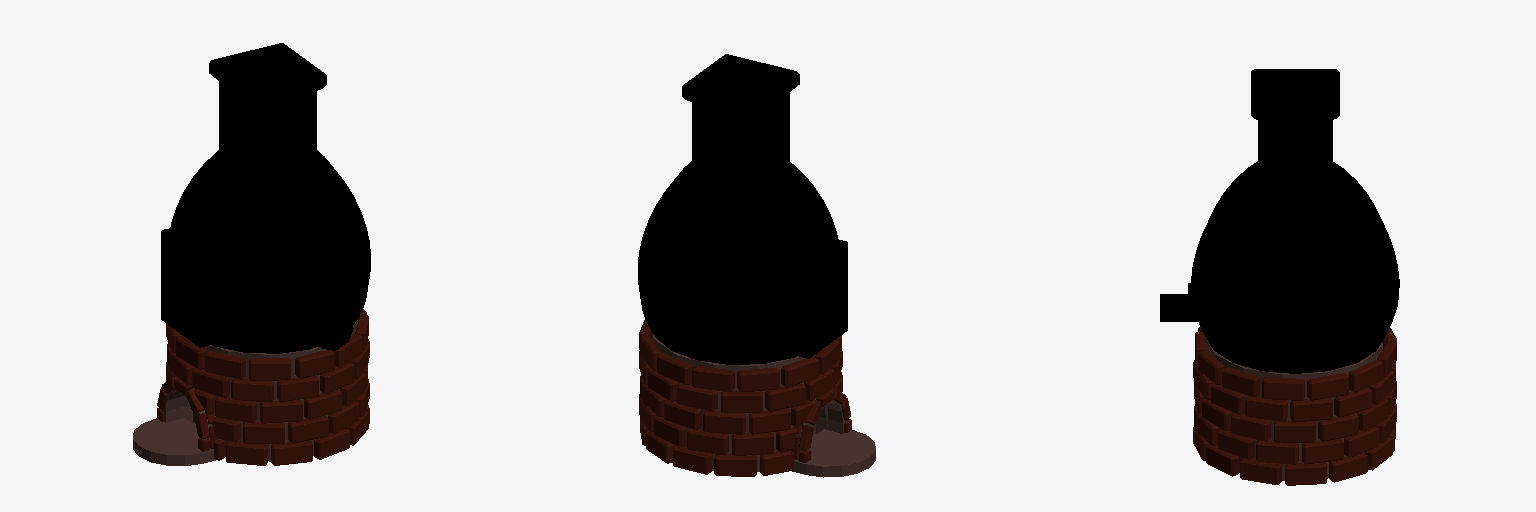
The model's file is Smeltery2.obj.
The picture shows the model from 3 angles: view 1: azimuth 30°, elevation 25°; view 2: azimuth 150°, elevation 25°; view 3: azimuth 270°, elevation 25°; orthographic projection.
Parts seen in each view (by area): view 1: BezierCurve, Plane_Plane.001, Cube_Cube.002, Cube.005_Cube.006, Cylinder.006, Cylinder.001, Cylinder, Plane.002_Plane.004, Cylinder.005; view 2: BezierCurve, Plane_Plane.001, Cube_Cube.002, Cube.005_Cube.006, Cylinder.006, Cylinder.001, Plane.002_Plane.004, Cylinder.005; view 3: BezierCurve, Plane_Plane.001, Cube_Cube.002, Cylinder.001, Cylinder.
Part boxes in pixels (left/top/right/bottom): BezierCurve: left=170, top=150, right=370, bottom=353; Plane_Plane.001: left=166, top=309, right=369, bottom=465; Cube_Cube.002: left=209, top=43, right=326, bottom=175; Cube.005_Cube.006: left=161, top=228, right=215, bottom=347; Cylinder.006: left=133, top=418, right=223, bottom=465; Cylinder.001: left=180, top=320, right=357, bottom=461; Cylinder: left=299, top=310, right=353, bottom=350; Plane.002_Plane.004: left=157, top=377, right=209, bottom=451; Cylinder.005: left=161, top=388, right=219, bottom=448; BezierCurve: left=638, top=161, right=837, bottom=364; Plane_Plane.001: left=639, top=320, right=842, bottom=476; Cube_Cube.002: left=682, top=54, right=799, bottom=187; Cube.005_Cube.006: left=793, top=239, right=847, bottom=358; Cylinder.006: left=792, top=429, right=875, bottom=477; Cylinder.001: left=652, top=333, right=827, bottom=471; Plane.002_Plane.004: left=799, top=388, right=851, bottom=462; Cylinder.005: left=789, top=399, right=845, bottom=460; BezierCurve: left=1191, top=161, right=1399, bottom=373; Plane_Plane.001: left=1193, top=327, right=1396, bottom=485; Cube_Cube.002: left=1251, top=69, right=1339, bottom=190; Cylinder.001: left=1205, top=337, right=1382, bottom=480; Cylinder: left=1160, top=294, right=1198, bottom=321.
Bounding box in the file's own units: 2.61 × 4.07 × 2.46.